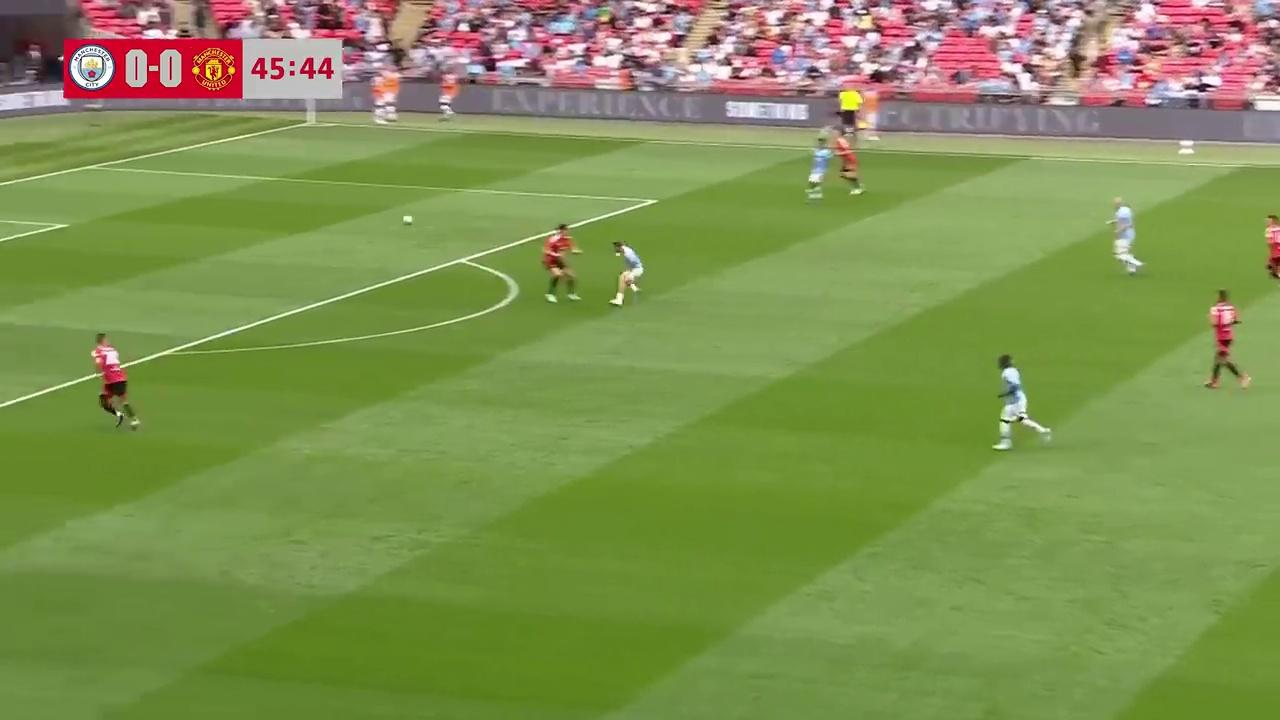ball: (400, 209, 416, 226)
player: (991, 354, 1051, 450), (91, 334, 141, 430), (1204, 288, 1251, 390), (541, 224, 583, 303), (1106, 198, 1144, 273), (609, 239, 643, 306), (835, 133, 863, 195), (805, 141, 832, 201), (1264, 212, 1280, 282)
referee: (836, 85, 866, 145)
